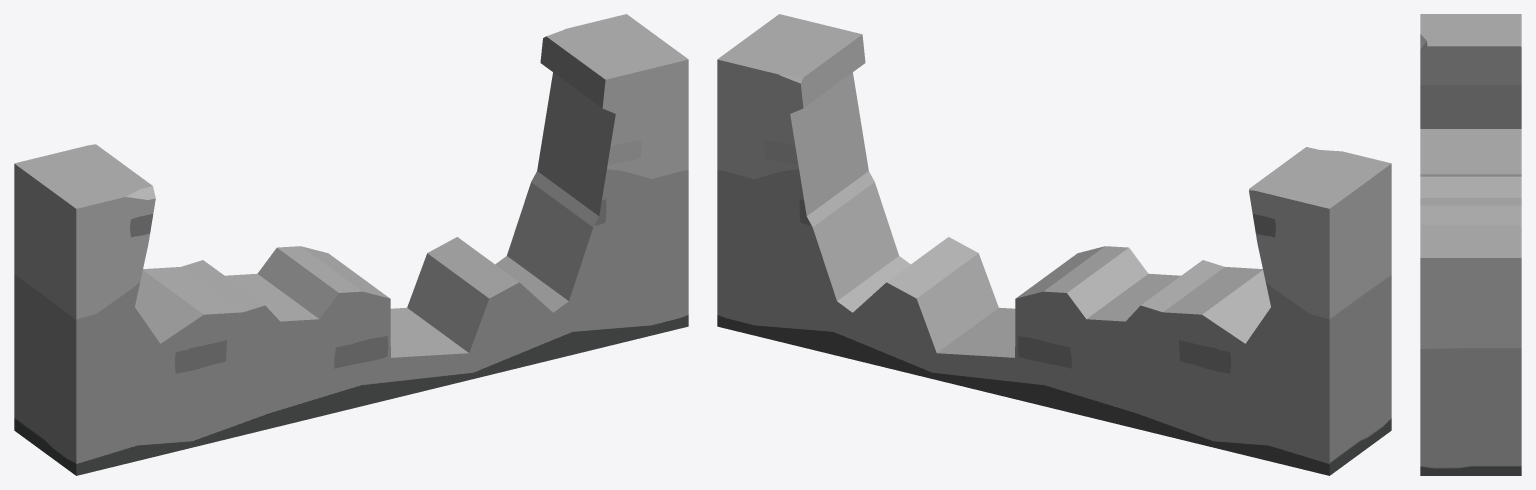
The model's file is Wh_Brick_Fence_Damaged_02.fbx.
The picture shows the model from 3 angles, left to right: view 1: azimuth 30°, elevation 25°; view 2: azimuth 150°, elevation 25°; view 3: azimuth 270°, elevation 25°; orthographic projection. The views are drawn at different scales.
Visible parts, largest first — view 1: Cube.025; view 2: Cube.025; view 3: Cube.025.
Boxes of the visible parts, bbox=[...] form: Cube.025: bbox=[14, 14, 688, 475]; Cube.025: bbox=[717, 14, 1391, 475]; Cube.025: bbox=[1420, 14, 1521, 475].
Bounding box in the file's own units: 300 × 125 × 52.71.
